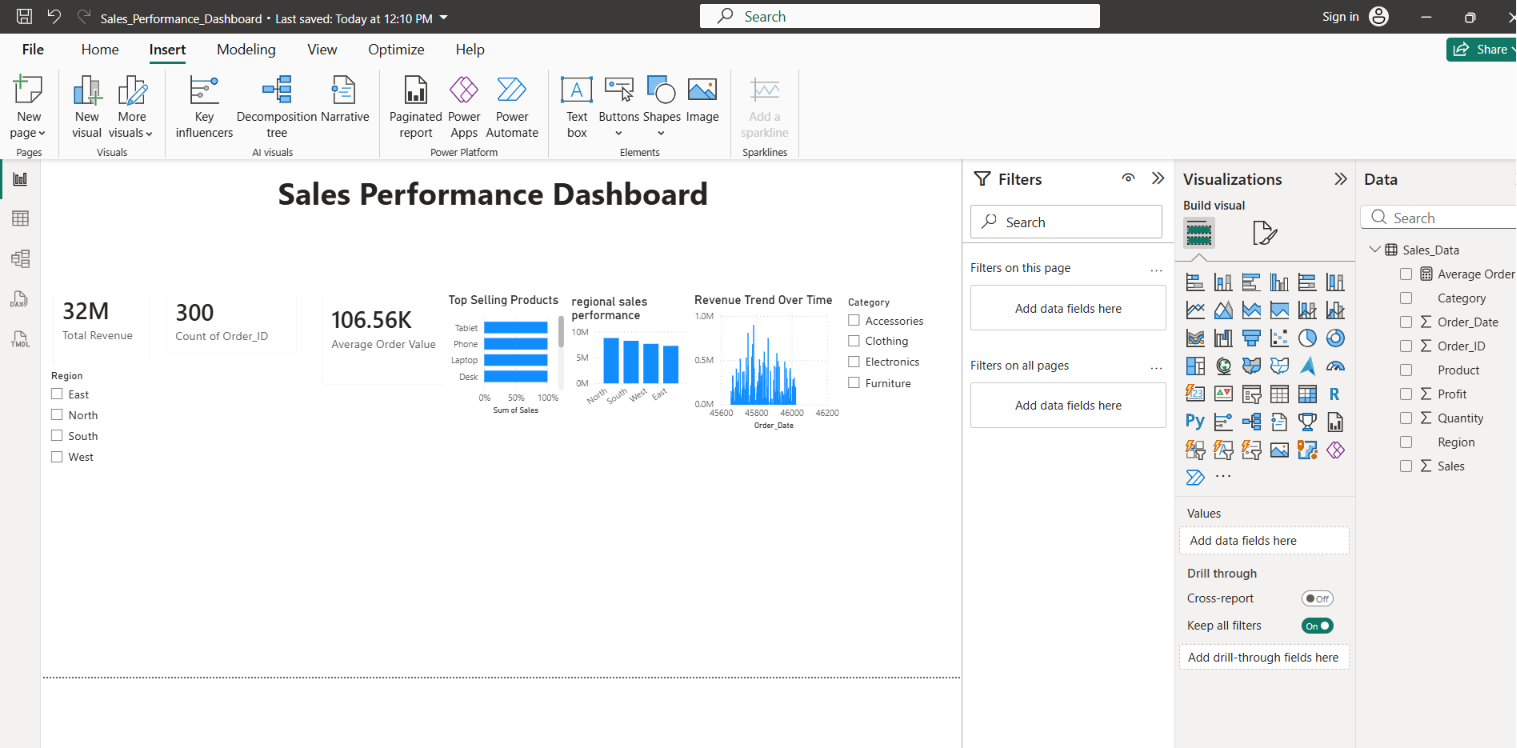

This screenshot's page, from the dashboard's own definition file:
{"tool":"powerbi","page":{"name":"Page 1","canvas":[1280,720],"ordinal":0},"visuals":[{"type":"cardVisual","fields":{"Data":["Sum(Sales_Data.Sales)"]},"box":[0,133.4,171,173.8],"z":0},{"type":"cardVisual","fields":{"Data":["CountNonNull(Sales_Data.Order_ID)"]},"box":[157.1,155.7,216.9,132.1],"z":1000},{"type":"cardVisual","fields":{"Data":["Sales_Data.Average Order Value"]},"box":[373.9,133.4,209.9,197.4],"z":2000},{"type":"lineClusteredColumnComboChart","title":"Revenue Trend Over Time","fields":{"Category":["Sales_Data.Order_Date"],"Y":["Sum(Sales_Data.Sales)"]},"box":[903.6,184.9,212.7,196],"z":3000},{"type":"hundredPercentStackedBarChart","title":"Top Selling Products","fields":{"Category":["Sales_Data.Product"],"Y":["Sum(Sales_Data.Sales)"]},"box":[561.6,184.9,171,175.2],"z":4000},{"type":"clusteredColumnChart","title":"regional sales performance","fields":{"Category":["Sales_Data.Region"],"Y":["Sum(Sales_Data.Sales)"]},"box":[732.6,187.7,171,175.2],"z":5000},{"type":"slicer","fields":{"Values":["Sales_Data.Category"]},"box":[1109.3,184.9,171,175.2],"z":6000},{"type":"slicer","fields":{"Values":["Sales_Data.Region"]},"box":[1.4,287.8,171,175.2],"z":7000},{"type":"textbox","box":[135,440.5,210,197],"z":7001},{"type":"textbox","box":[352,441,213,197],"z":7002},{"type":"textbox","box":[0,12.5,1057.9,175.2],"z":7003}]}

Visuals, with their boxes on the page's 1280x720 design canvas (x1, y1, x2, y2). These are canvas units, not pixel positions in the 1517x748 screenshot, which may show the page scaled, cropped or inside an application window:
cardVisual - Sum(Sales_Data.Sales): {"left": 0, "top": 133, "right": 171, "bottom": 307}
cardVisual - CountNonNull(Sales_Data.Order_ID): {"left": 157, "top": 156, "right": 374, "bottom": 288}
cardVisual - Sales_Data.Average Order Value: {"left": 374, "top": 133, "right": 584, "bottom": 331}
"Revenue Trend Over Time" lineClusteredColumnComboChart: {"left": 904, "top": 185, "right": 1116, "bottom": 381}
"Top Selling Products" hundredPercentStackedBarChart: {"left": 562, "top": 185, "right": 733, "bottom": 360}
"regional sales performance" clusteredColumnChart: {"left": 733, "top": 188, "right": 904, "bottom": 363}
slicer - Sales_Data.Category: {"left": 1109, "top": 185, "right": 1280, "bottom": 360}
slicer - Sales_Data.Region: {"left": 1, "top": 288, "right": 172, "bottom": 463}
textbox: {"left": 135, "top": 440, "right": 345, "bottom": 638}
textbox: {"left": 352, "top": 441, "right": 565, "bottom": 638}
textbox: {"left": 0, "top": 12, "right": 1058, "bottom": 188}
